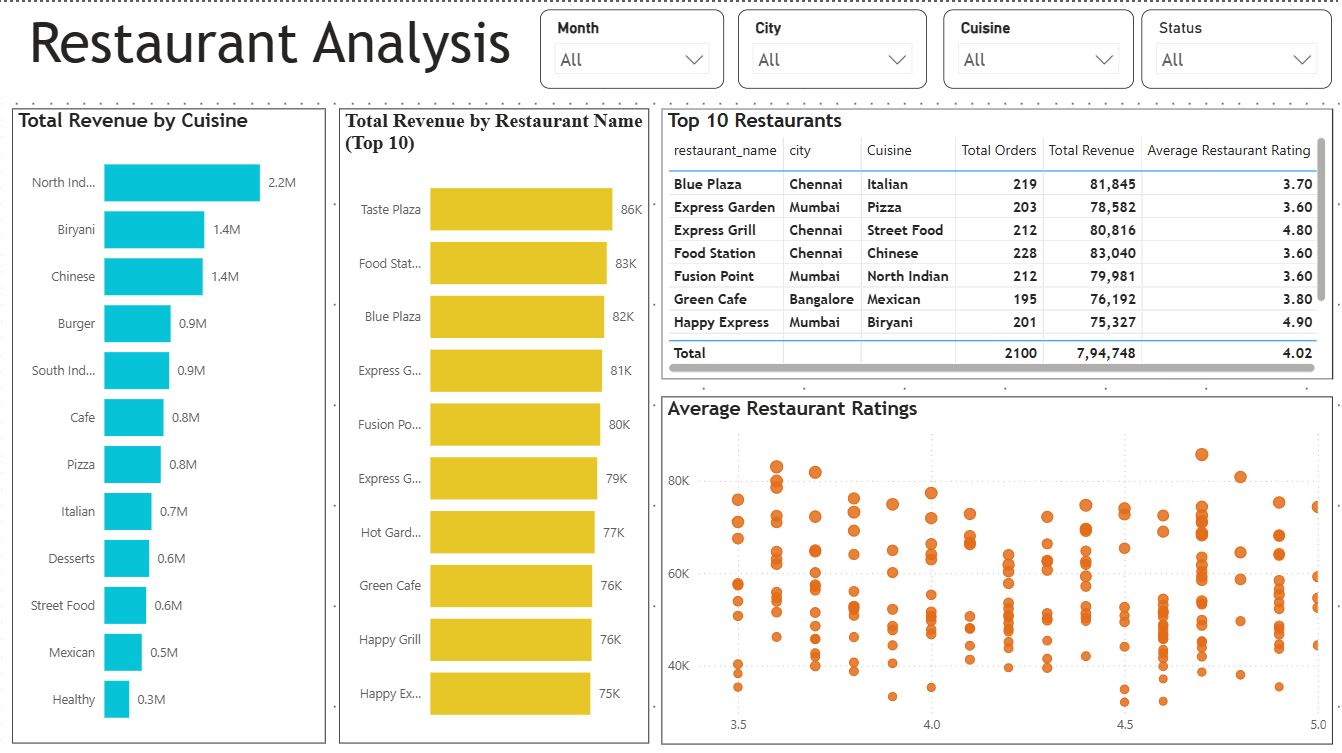

The page's visual inventory and layout, read from the dashboard file:
{"tool":"powerbi","page":{"name":"Restaurant Analysis","canvas":[1280,720],"ordinal":1},"visuals":[{"type":"barChart","fields":{"Category":["restaurants.cuisine"],"Y":["Shared Measures.Total Revenue"]},"box":[10.9,101.6,298.4,604.7],"z":2000},{"type":"barChart","title":"Total Revenue by Restaurant Name (Top 10)","fields":{"Y":["Shared Measures.Total Revenue"],"Category":["restaurants.restaurant_name"]},"box":[323.4,101.6,295.3,604.7],"z":3000},{"type":"tableEx","title":"Top 10 Restaurants","fields":{"Values":["restaurants.restaurant_name","restaurants.city","restaurants.cuisine","Shared Measures.Total Orders","Shared Measures.Total Revenue","Restaurant Analysis.Average Restaurant Rating"]},"box":[629.7,101.6,639.1,257.8],"z":4000},{"type":"scatterChart","title":"Average Restaurant Ratings","fields":{"Category":["restaurants.restaurant_name"],"X":["Restaurant Analysis.Average Restaurant Rating"],"Y":["Shared Measures.Total Revenue"],"Size":["Shared Measures.Delivered Orders"]},"box":[629.7,375,639.1,331.2],"z":5000},{"type":"slicer","fields":{"Values":["orders.order_time.Variation.Date Hierarchy.Month"]},"box":[514.1,7.8,175,75],"z":6000},{"type":"slicer","fields":{"Values":["customers.city"]},"box":[703.1,7.8,179.7,75],"z":7000},{"type":"slicer","fields":{"Values":["restaurants.cuisine"]},"box":[898.4,7.8,181.2,75],"z":8000},{"type":"slicer","fields":{"Values":["orders.status"]},"box":[1087.5,7.8,181.2,75],"z":9000},{"type":"textbox","box":[0,1.6,514.1,89.1],"z":10000}]}

Visuals, with their boxes in screenshot pixels (x1, y1, x2, y2), scaled from the page's 1280x720 canvas onto the 1342x753 screenshot:
barChart - restaurants.cuisine x Shared Measures.Total Revenue: 11,106,324,739
"Total Revenue by Restaurant Name (Top 10)" barChart: 339,106,649,739
"Top 10 Restaurants" tableEx: 660,106,1330,376
"Average Restaurant Ratings" scatterChart: 660,392,1330,739
slicer - orders.order_time.Variation.Date Hierarchy.Month: 539,8,722,87
slicer - customers.city: 737,8,926,87
slicer - restaurants.cuisine: 942,8,1132,87
slicer - orders.status: 1140,8,1330,87
textbox: 0,2,539,95
